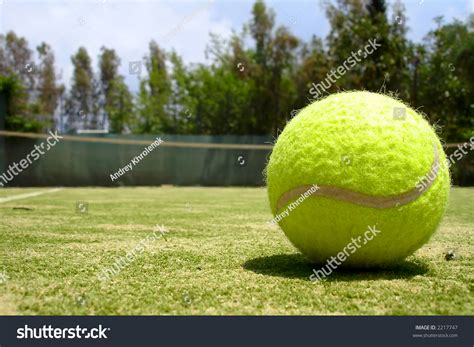tennis_ball: (264, 88, 452, 270)
